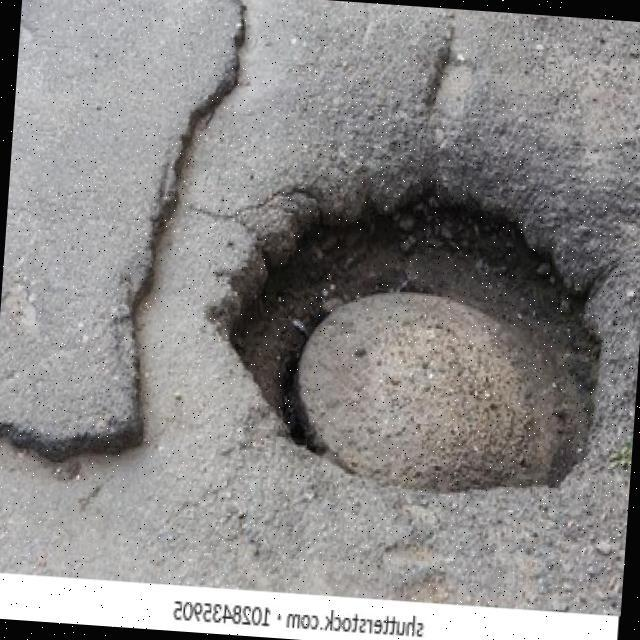Pothole: (219, 169, 613, 495)
